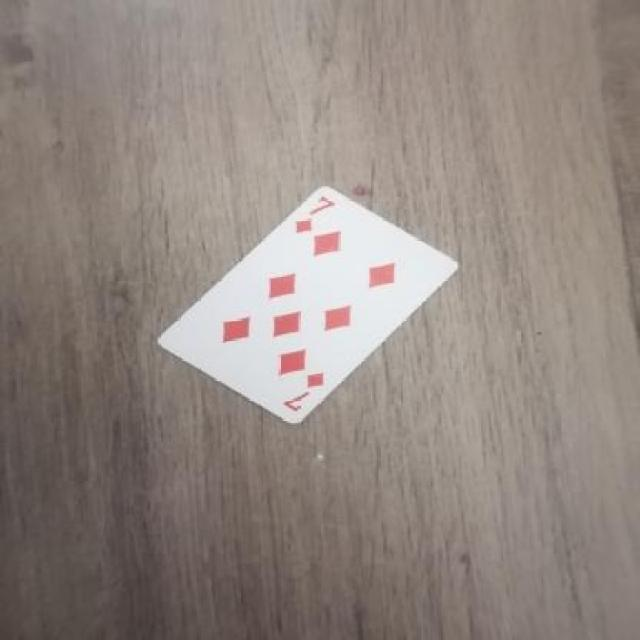7D: (278, 372, 336, 422), (285, 192, 340, 239)
